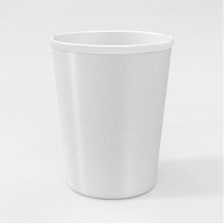glass: (34, 22, 179, 212)
